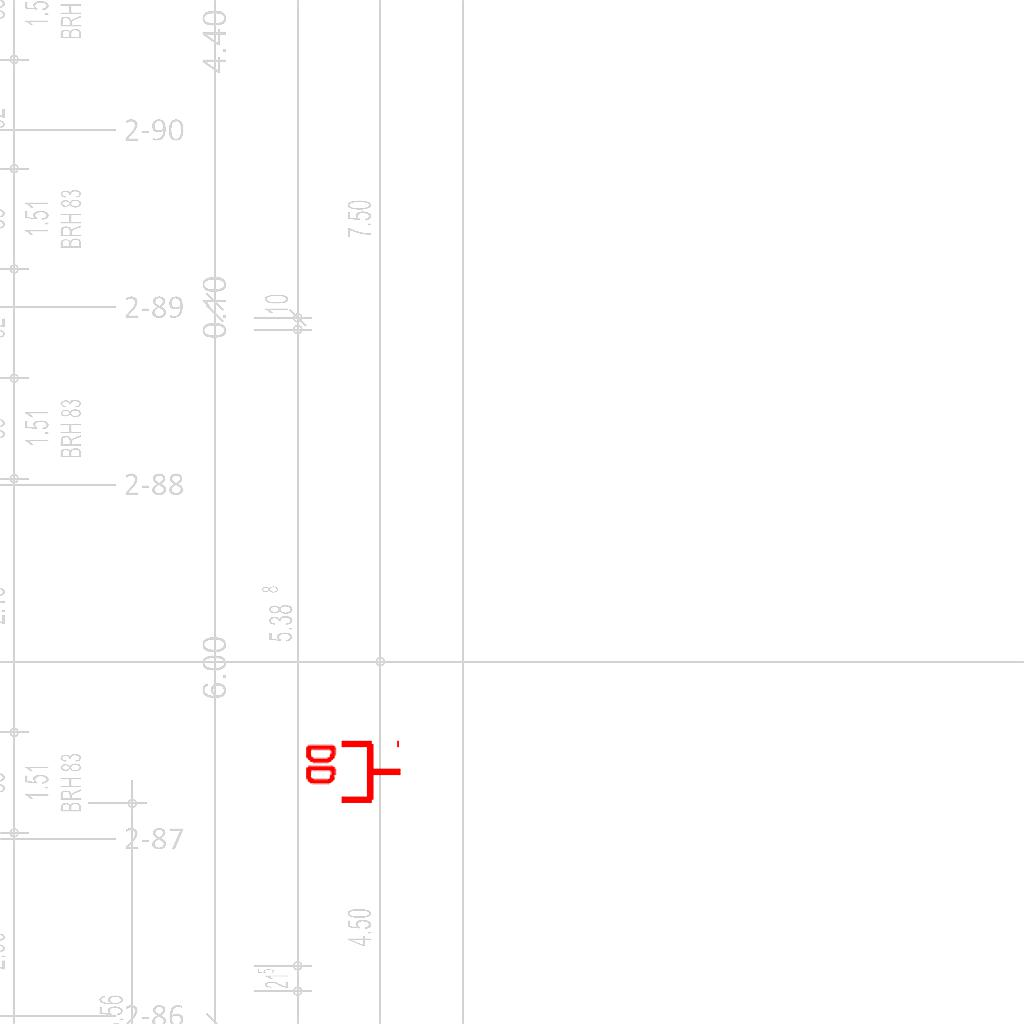Datenanschluss_zweifach: (301, 739, 404, 808)
